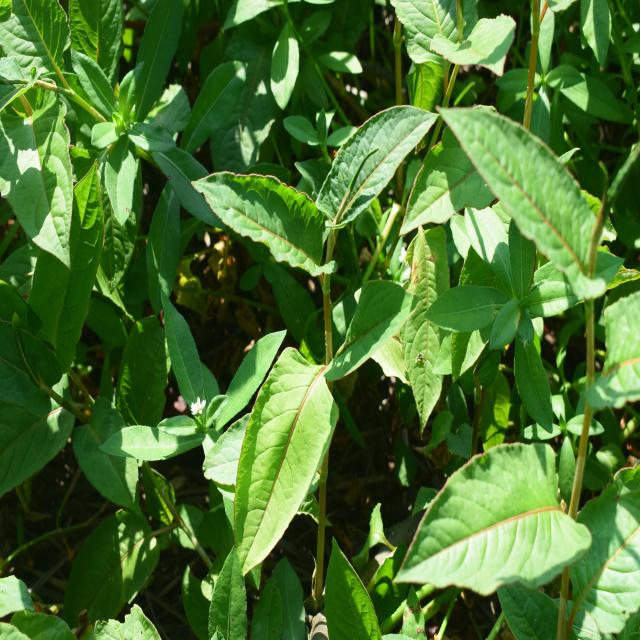Chinese_knotweed: (194, 94, 418, 536)
